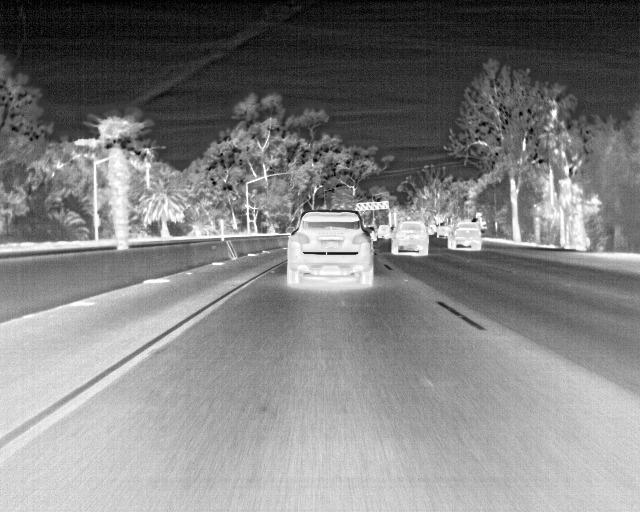car: (286, 208, 372, 286), (390, 219, 429, 254), (444, 221, 480, 250), (434, 220, 450, 237), (376, 222, 393, 237)
